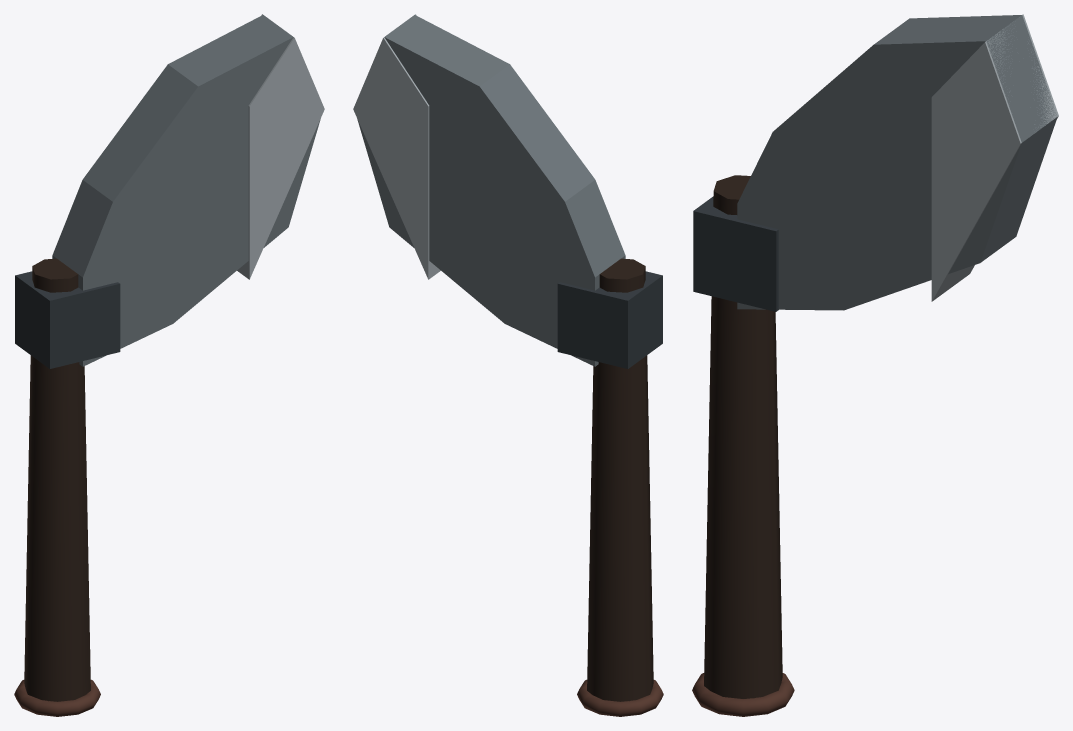
File: greataxe.glb
3 renders of one model, left to right at view 1: azimuth 30°, elevation 25°; view 2: azimuth 150°, elevation 25°; view 3: azimuth 330°, elevation 25°, orthographic. The views are drawn at different scales.
Parts seen in each view (by area): view 1: greataxe-blade, greataxe-haft, greataxe-edge, greataxe-eye, greataxe-grip-wrap; view 2: greataxe-blade, greataxe-haft, greataxe-edge, greataxe-eye, greataxe-grip-wrap; view 3: greataxe-blade, greataxe-haft, greataxe-edge, greataxe-eye, greataxe-grip-wrap.
Boxes of the visible parts, bbox=[...] form: greataxe-blade: bbox=[52, 15, 320, 366]; greataxe-haft: bbox=[24, 258, 90, 701]; greataxe-edge: bbox=[237, 14, 324, 279]; greataxe-eye: bbox=[15, 271, 120, 368]; greataxe-grip-wrap: bbox=[14, 679, 100, 716]; greataxe-blade: bbox=[357, 15, 625, 366]; greataxe-haft: bbox=[587, 258, 653, 701]; greataxe-edge: bbox=[353, 14, 440, 279]; greataxe-eye: bbox=[557, 271, 662, 368]; greataxe-grip-wrap: bbox=[577, 679, 663, 716]; greataxe-blade: bbox=[737, 15, 1057, 310]; greataxe-haft: bbox=[704, 175, 782, 698]; greataxe-edge: bbox=[931, 14, 1058, 301]; greataxe-eye: bbox=[693, 196, 778, 311]; greataxe-grip-wrap: bbox=[692, 673, 794, 716].
Size of the model in its own units: 0.575 by 1.18 by 0.15.
